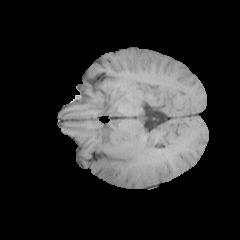glioma: (88, 142, 139, 182)
